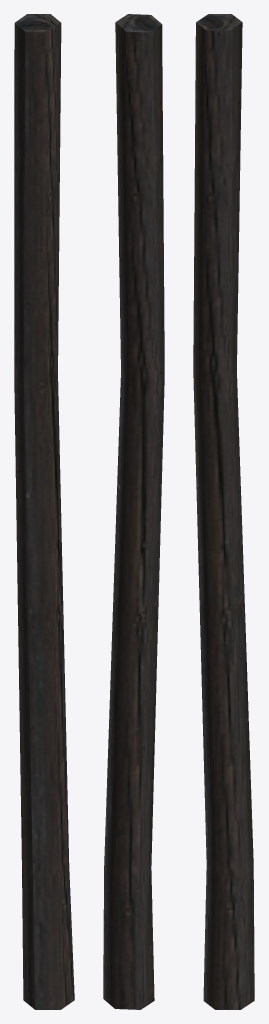
The model's file is WoodenLog_03.FBX.
The picture shows the model from 3 angles, left to right: view 1: azimuth 30°, elevation 25°; view 2: azimuth 150°, elevation 25°; view 3: azimuth 330°, elevation 25°; orthographic projection.
Visible parts, largest first — view 1: WoodenLog_03; view 2: WoodenLog_03; view 3: WoodenLog_03.
Part boxes in pixels (bbox=[...]): WoodenLog_03: bbox=[14, 14, 74, 1009]; WoodenLog_03: bbox=[103, 14, 164, 1009]; WoodenLog_03: bbox=[193, 14, 254, 1009].
Size of the model in its own units: 15.33 by 287 by 14.29.
